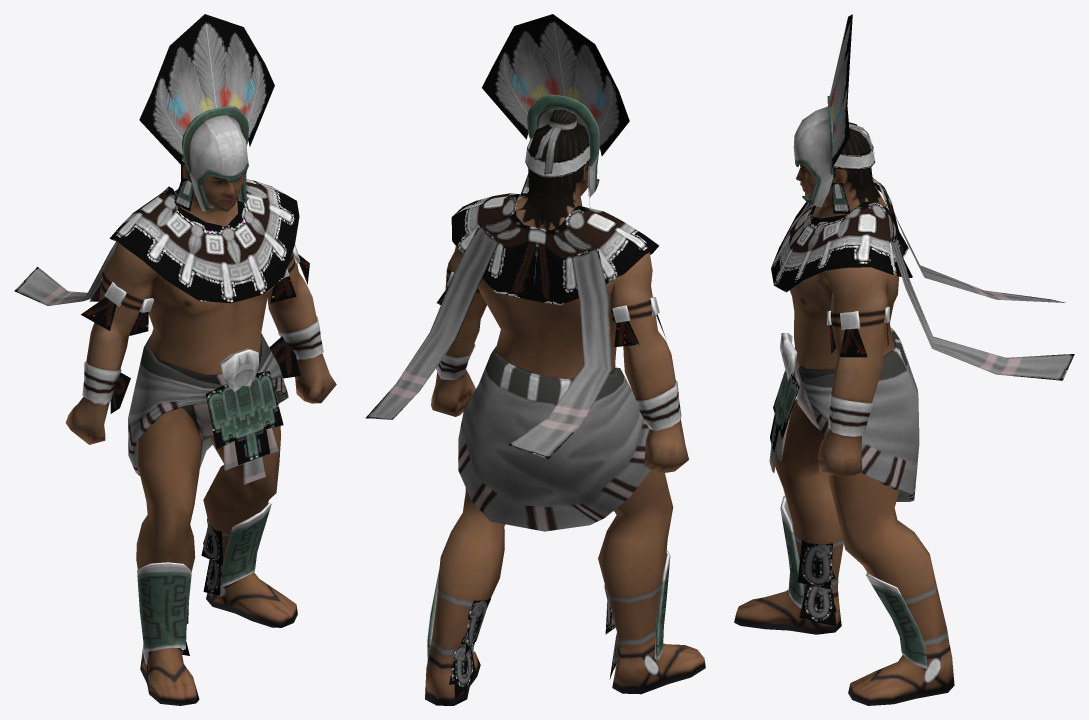
The model's file is body-heavygreattemplesoldiers.glb.
3 renders of one model, left to right at view 1: azimuth 30°, elevation 25°; view 2: azimuth 150°, elevation 25°; view 3: azimuth 270°, elevation 25°, orthographic. The views are drawn at different scales.
Bounding box in the file's own units: 1 × 2.41 × 1.16.
2 materials, 2 textured.
